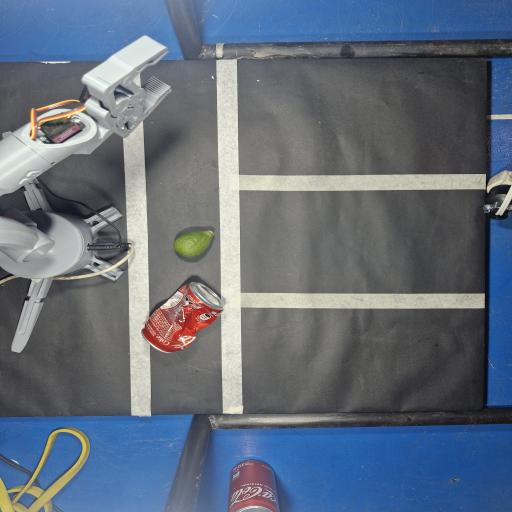higo: (174, 231, 213, 257)
lata_defectuoso: (142, 282, 224, 353)
